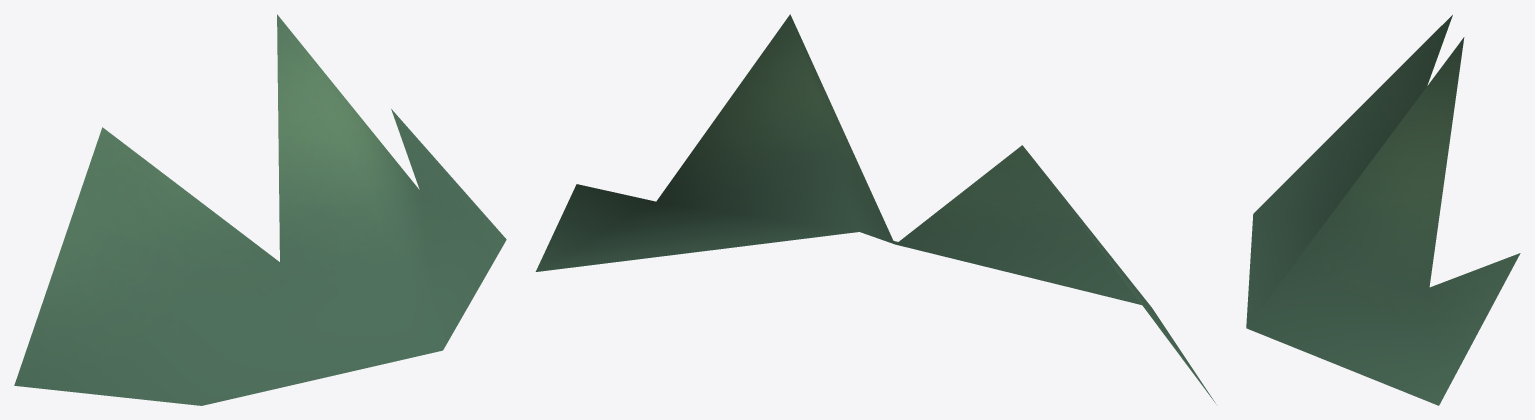
The model's file is grass_patch_04.fbx.
3 renders of one model, left to right at view 1: azimuth 30°, elevation 25°; view 2: azimuth 150°, elevation 25°; view 3: azimuth 270°, elevation 25°, orthographic. The views are drawn at different scales.
Visible parts, largest first — view 1: grass_patch_04; view 2: grass_patch_04; view 3: grass_patch_04.
Part boxes in pixels (left/top/right/bottom): grass_patch_04: left=14, top=14, right=506, bottom=405; grass_patch_04: left=535, top=14, right=1216, bottom=404; grass_patch_04: left=1246, top=15, right=1520, bottom=405.
Size of the model in its own units: 3.7 by 1.83 by 1.72.
